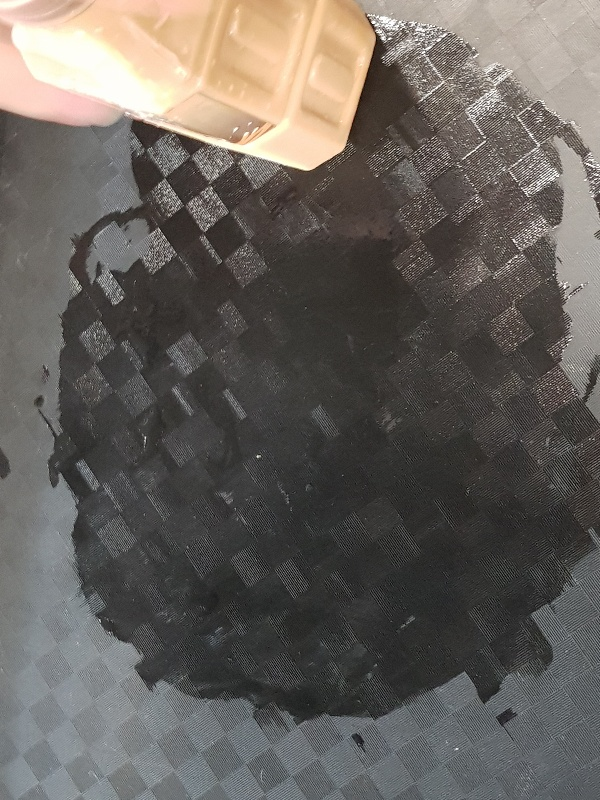Mocha: (3, 1, 377, 174)
